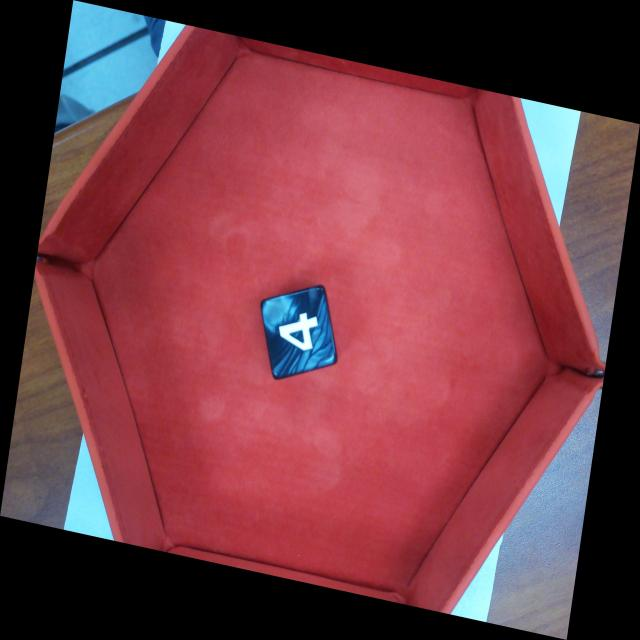dice: (263, 282, 338, 377)
